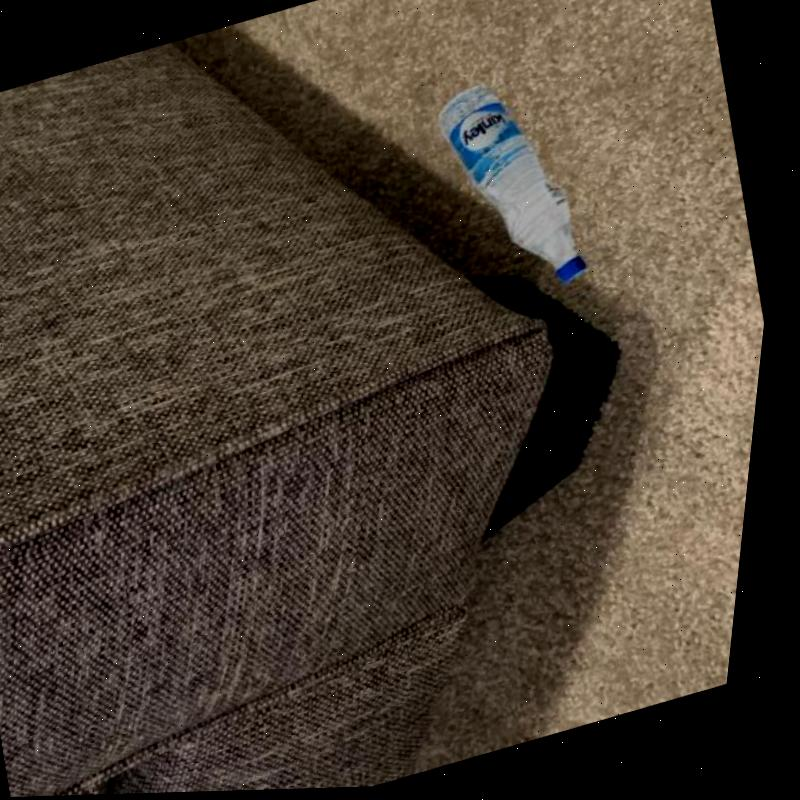botella: (416, 66, 610, 318)
